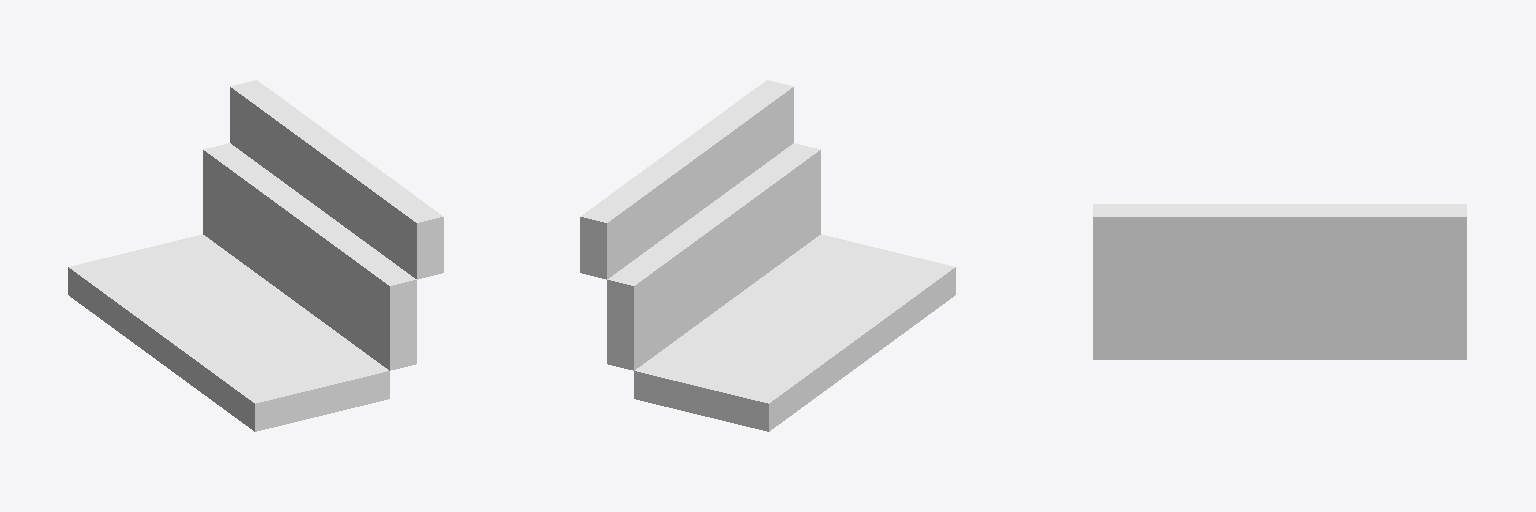
Rendered from map1.22.vox.obj.
The picture shows the model from 3 angles: view 1: azimuth 30°, elevation 25°; view 2: azimuth 150°, elevation 25°; view 3: azimuth 270°, elevation 25°; orthographic projection.
Parts seen in each view (by area): view 1: object 1; view 2: object 1; view 3: object 1.
Boxes of the visible parts, x1=… form: object 1: x1=68, y1=80, x2=443, y2=431; object 1: x1=580, y1=80, x2=955, y2=431; object 1: x1=1093, y1=204, x2=1466, y2=359.
Size of the model in its own units: 14 by 12 by 24.